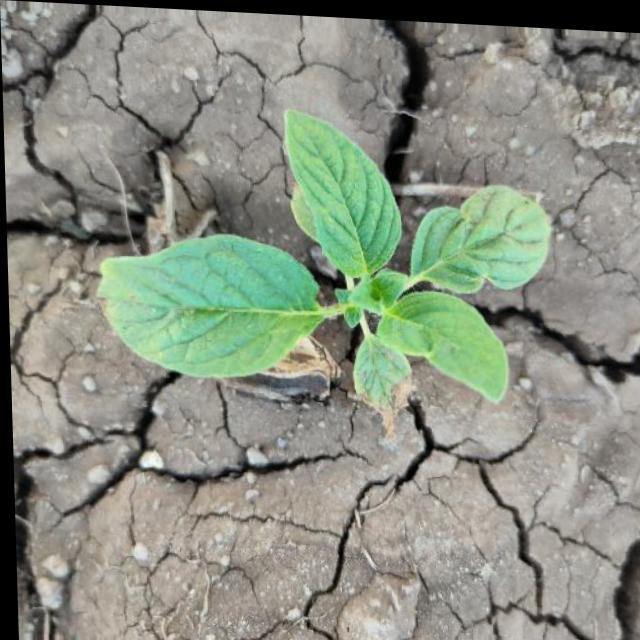crop: (86, 101, 567, 423)
